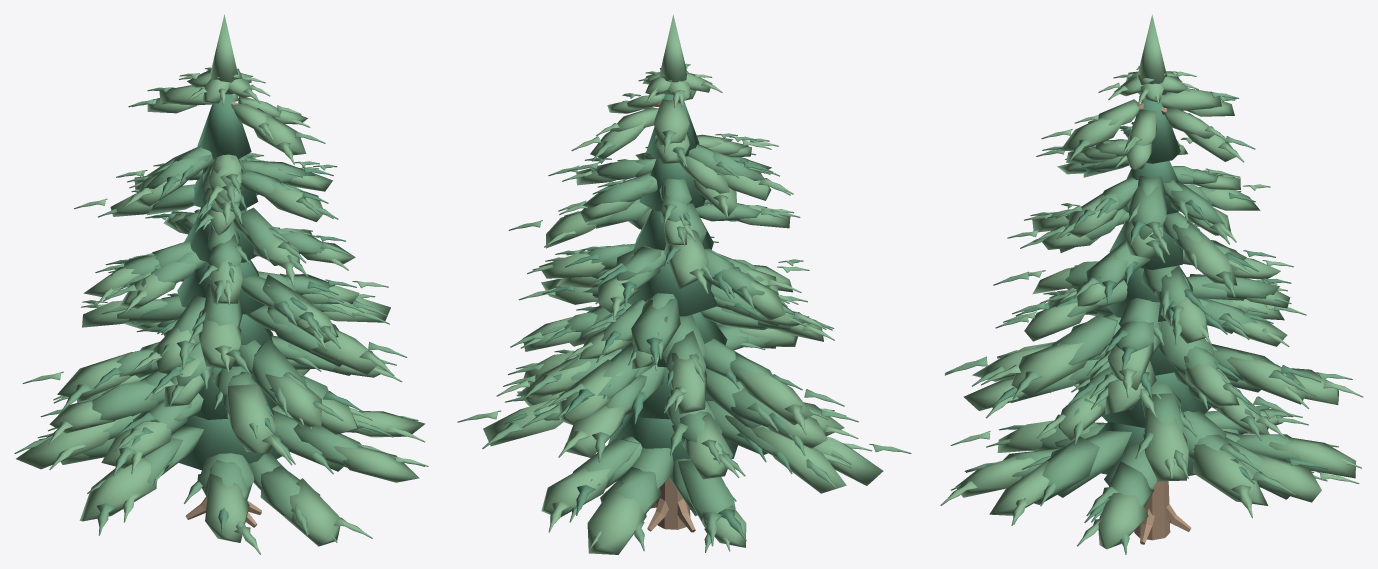
File: Pine_3.gltf
The picture shows the model from 3 angles, left to right: view 1: azimuth 30°, elevation 25°; view 2: azimuth 150°, elevation 25°; view 3: azimuth 270°, elevation 25°; orthographic projection. The views are drawn at different scales.
Visible parts, largest first — view 1: Pine_3; view 2: Pine_3; view 3: Pine_3.
Boxes of the visible parts, left/top/right/bottom form: Pine_3: left=14, top=14, right=428, bottom=554; Pine_3: left=457, top=14, right=911, bottom=554; Pine_3: left=940, top=14, right=1363, bottom=554.
Size of the model in its own units: 3.89 by 5.08 by 3.75.
